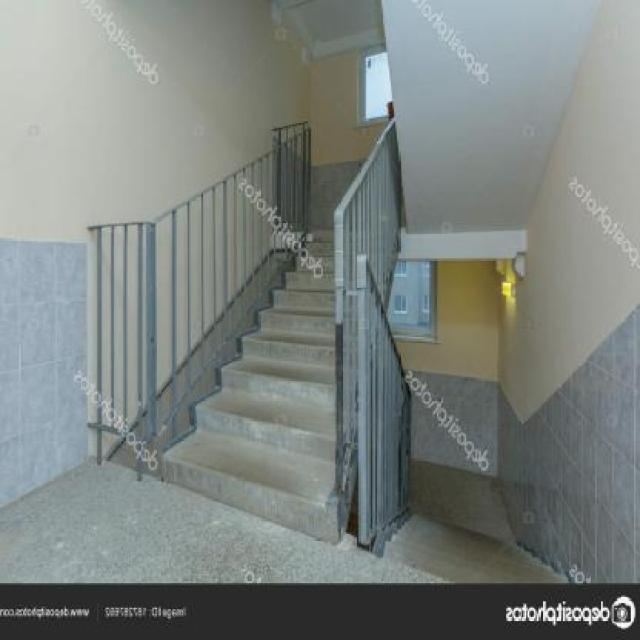stair: (137, 71, 406, 548)
